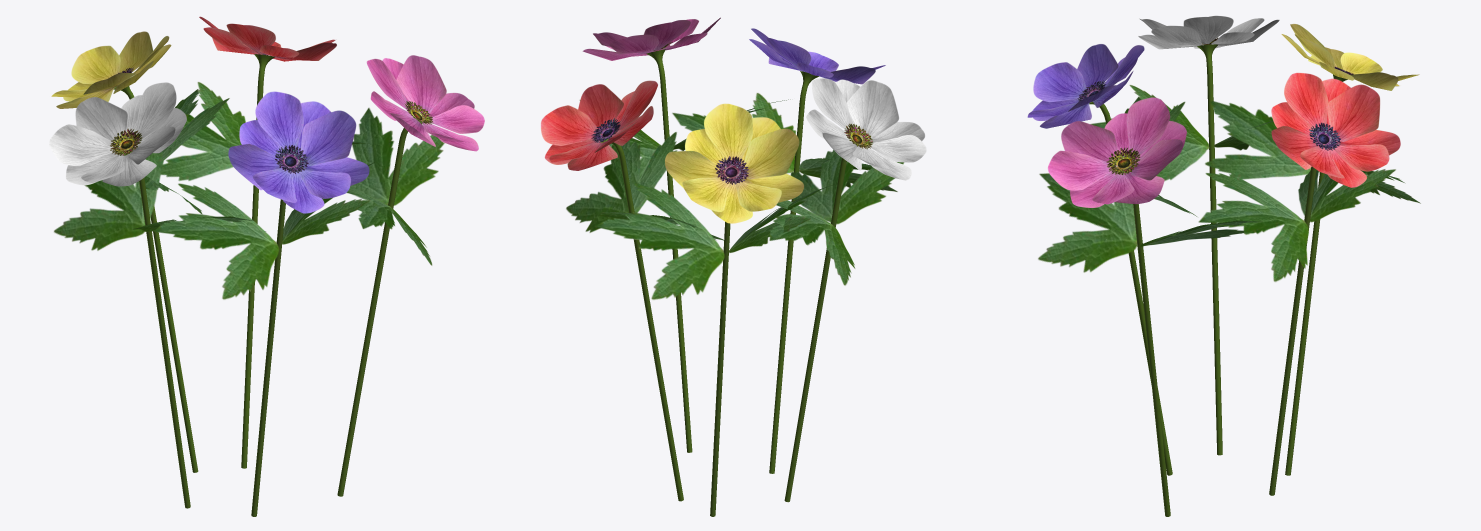
Rendered from anemone.glb.
3 views of the same model, side by side, from view 1: azimuth 30°, elevation 25°; view 2: azimuth 150°, elevation 25°; view 3: azimuth 270°, elevation 25° (orthographic). The views are drawn at different scales.
Parts seen in each view (by area): view 1: Cylinder, Cylinder.004, Cylinder.001, Cylinder.002, Cylinder.003; view 2: Cylinder.003, Cylinder.004, Cylinder.002, Cylinder, Cylinder.001; view 3: Cylinder.002, Cylinder.001, Cylinder.003, Cylinder.004, Cylinder.
Boxes of the visible parts, bbox=[...] form: Cylinder: bbox=[153, 91, 374, 516]; Cylinder.004: bbox=[49, 82, 265, 508]; Cylinder.001: bbox=[337, 55, 484, 496]; Cylinder.002: bbox=[160, 16, 377, 468]; Cylinder.003: bbox=[51, 31, 229, 472]; Cylinder.003: bbox=[594, 103, 835, 516]; Cylinder.004: bbox=[769, 78, 926, 502]; Cylinder.002: bbox=[541, 80, 723, 501]; Cylinder: bbox=[672, 28, 897, 473]; Cylinder.001: bbox=[579, 17, 788, 452]; Cylinder.002: bbox=[1198, 73, 1400, 495]; Cylinder.001: bbox=[1038, 97, 1262, 516]; Cylinder.003: bbox=[1205, 24, 1420, 475]; Cylinder.004: bbox=[1091, 15, 1279, 455]; Cylinder: bbox=[1027, 44, 1196, 475].
Size of the model in its own units: 15.63 by 16.52 by 16.73.
2 materials, 2 textured.
